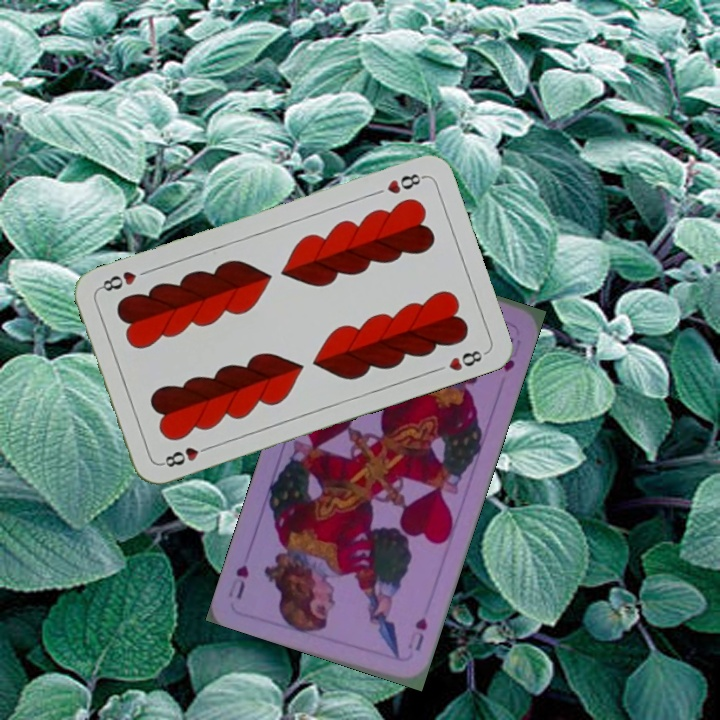H8: (157, 441, 214, 470), (382, 169, 428, 197)
HU: (403, 613, 430, 654)
